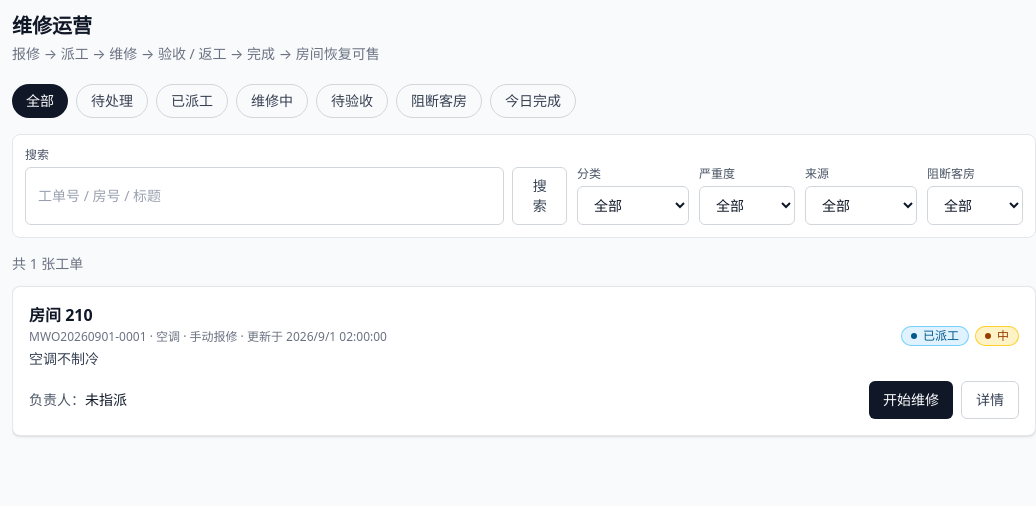
Test: MaintenanceWorkspaceView › 409 冲突 → 原文展示（不吞掉后端 detail）
The image size is (1036, 506).
Expected: the link "房间 210" is shown, [29,304,93,326]
Click the button "开始维修" at (911, 400), box [869,381,953,419]
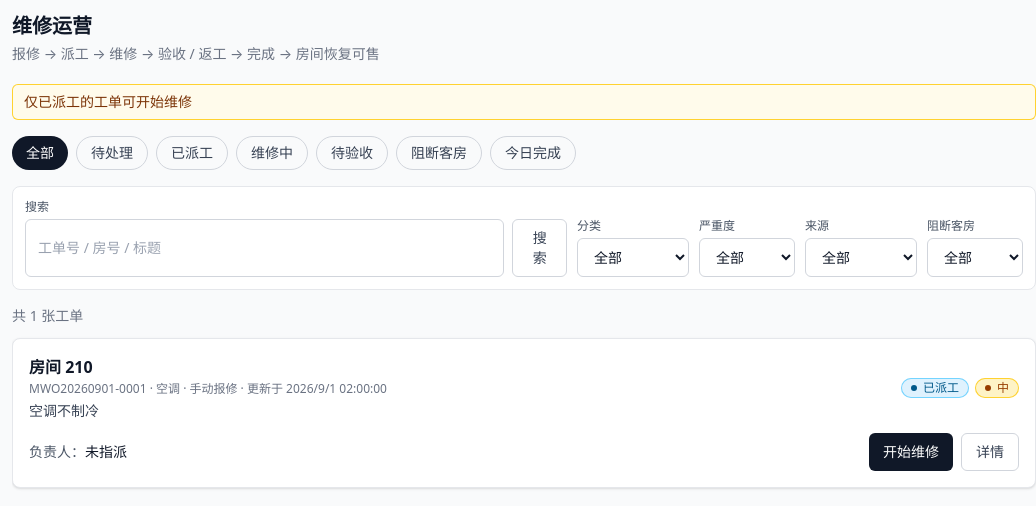
Result: the text "仅已派工的工单可开始维修" is shown at [12,84,1035,120]
